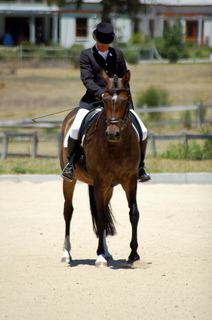person: (61, 22, 152, 185)
